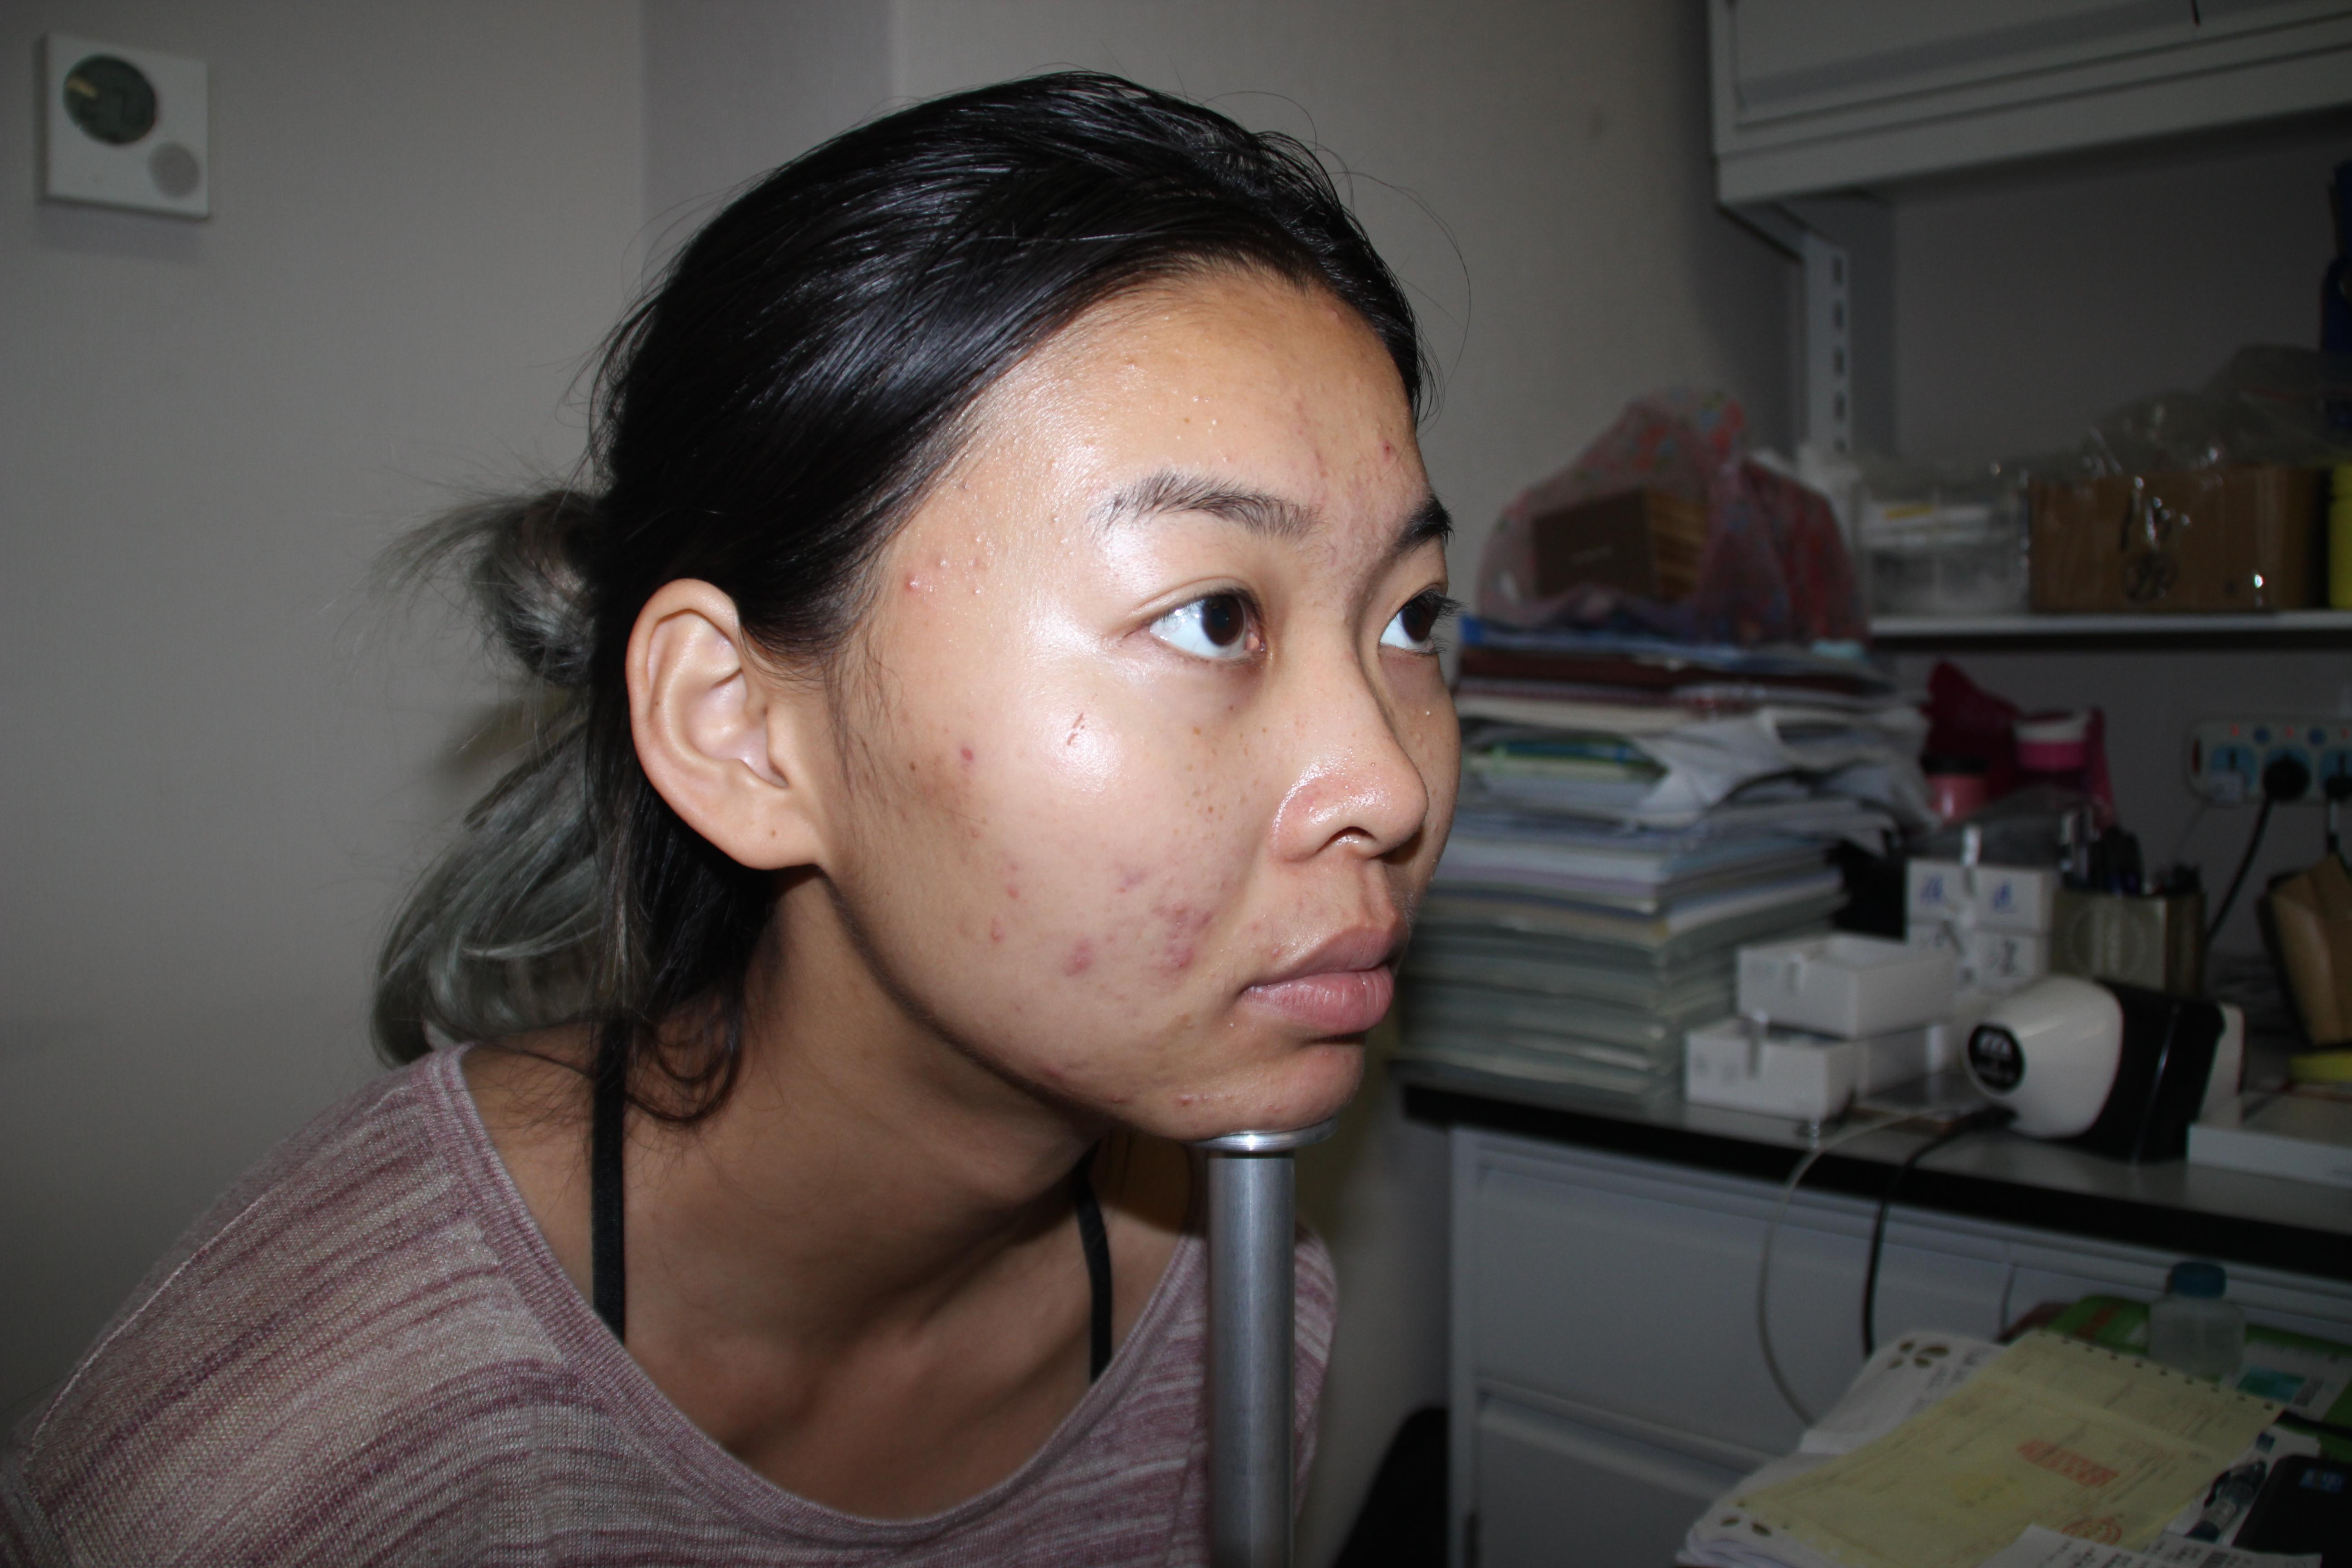fore: (1057, 920, 1106, 999), (1141, 889, 1216, 940), (1353, 422, 1419, 474), (978, 905, 1029, 964), (1157, 936, 1213, 987), (947, 730, 994, 780), (1034, 1043, 1073, 1102), (886, 562, 935, 602)
